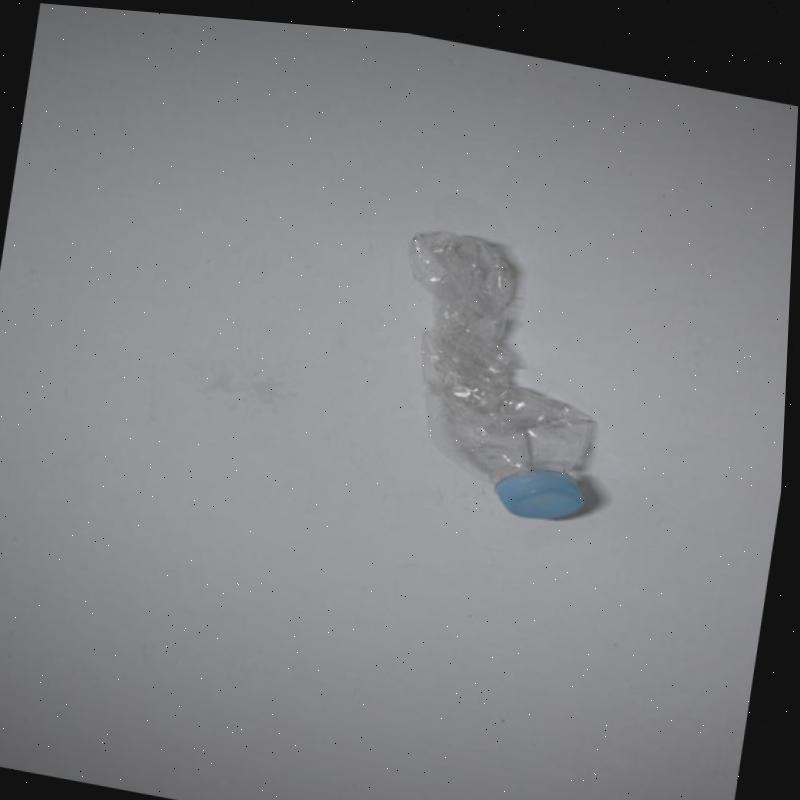botella: (370, 213, 627, 521)
